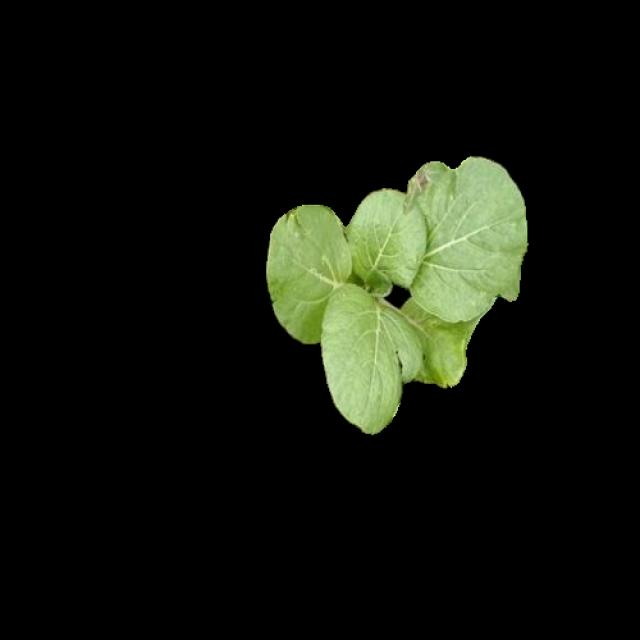healthy: (266, 152, 524, 429)
mature: (269, 155, 526, 431)
